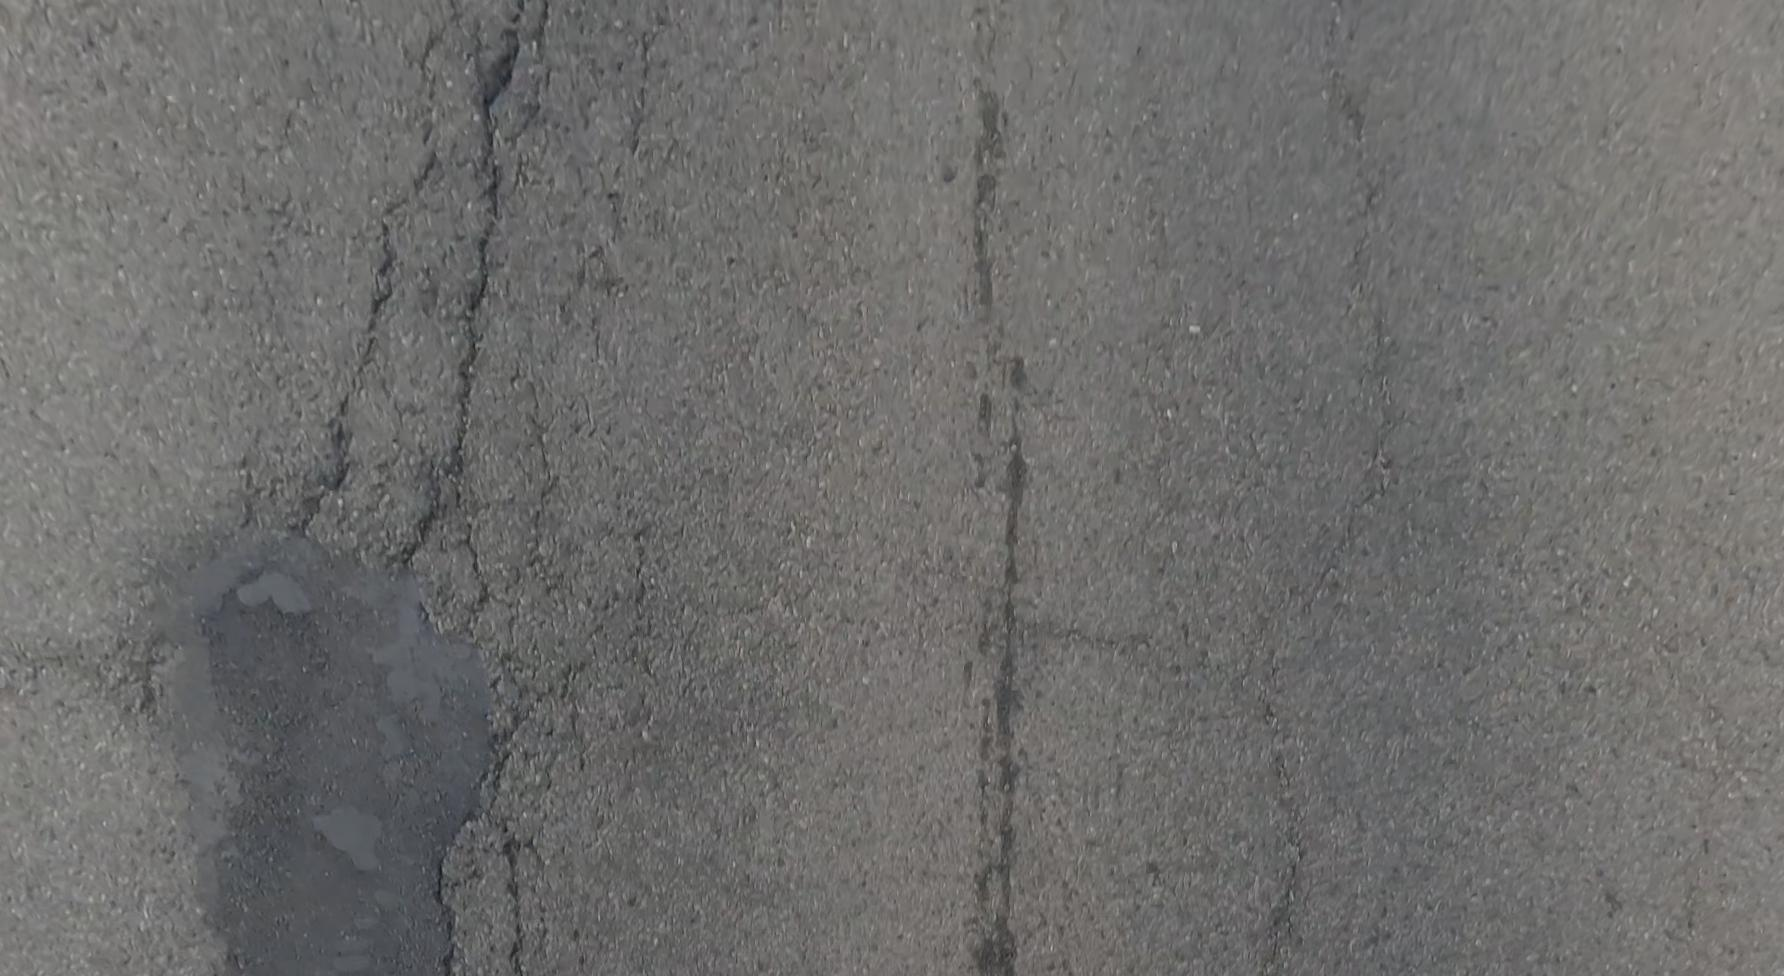pothole_patch_good: (167, 538, 490, 975)
